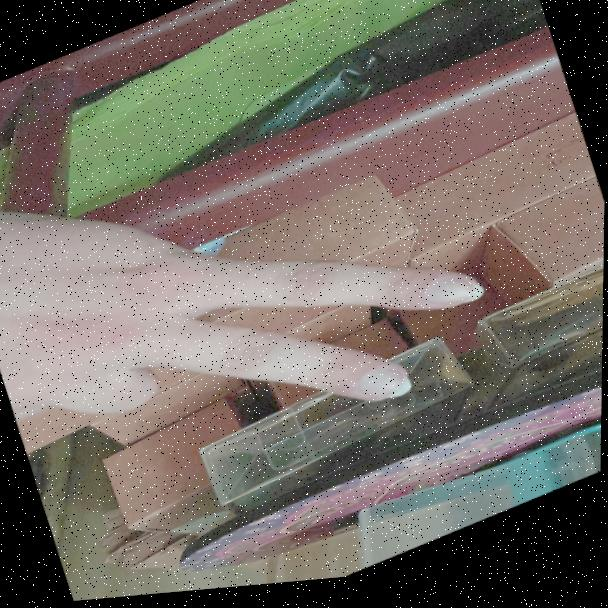two: (0, 66, 522, 548)
